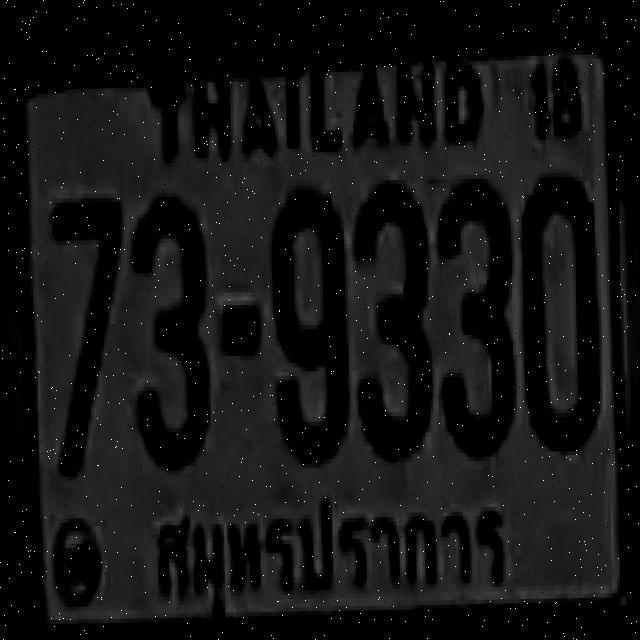0: (516, 172, 596, 447)
3: (350, 180, 430, 454), (128, 189, 206, 464), (434, 178, 512, 453)
7: (48, 193, 122, 472)
9: (268, 185, 344, 460)
SamutPrakan: (143, 484, 520, 613)
